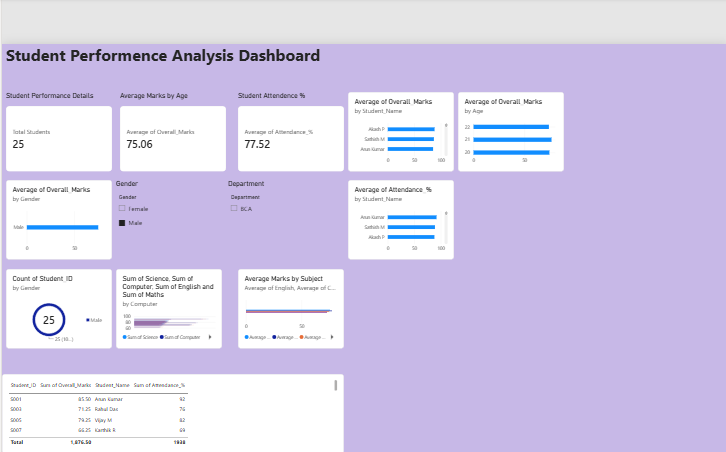

This screenshot's page, from the dashboard's own definition file:
{"tool":"powerbi","page":{"name":"Page 1","canvas":[1920,1080],"ordinal":0},"visuals":[{"type":"clusteredBarChart","fields":{"Category":["StudentData.Computer","StudentData.English","StudentData.Science","StudentData.Maths"],"Y":["Sum(StudentData.Science)","Sum(StudentData.Computer)","Sum(StudentData.English)","Sum(StudentData.Maths)"]},"box":[301.1,594.2,280,210],"z":0},{"type":"donutChart","fields":{"Category":["StudentData.Gender"],"Y":["CountNonNull(StudentData.Student_ID)"]},"box":[10.6,594.2,280,210],"z":1000},{"type":"cardVisual","title":"Student Performance Details","fields":{"Data":["StudentData.Total Students"]},"box":[10.6,126.8,280,210],"z":2000},{"type":"cardVisual","title":"Average Marks by Age","fields":{"Data":["Avg(StudentData.Overall_Marks)"]},"box":[311.6,126.8,280,210],"z":3000},{"type":"cardVisual","title":"Student Attendence %","fields":{"Data":["Avg(StudentData.Attendance_%)"]},"box":[623.3,126.8,280,210],"z":4000},{"type":"clusteredBarChart","title":"Average Marks by Subject","fields":{"Y":["Avg(StudentData.English)","Avg(StudentData.Computer)","Avg(StudentData.Science)","Avg(StudentData.Maths)"]},"box":[623.3,594.2,280,210],"z":5000},{"type":"slicer","title":" Gender","fields":{"Values":["StudentData.Gender"]},"box":[301.1,359.2,280,210],"z":6000},{"type":"slicer","title":"Department","fields":{"Values":["StudentData.Department"]},"box":[596.9,359.2,280,210],"z":7000},{"type":"clusteredBarChart","fields":{"Category":["StudentData.Gender"],"Y":["Avg(StudentData.Overall_Marks)"]},"box":[10.6,359.2,280,210],"z":8000},{"type":"clusteredBarChart","fields":{"Category":["StudentData.Student_Name"],"Y":["Avg(StudentData.Attendance_%)"]},"box":[913.8,359.2,280,210],"z":9000},{"type":"tableEx","fields":{"Values":["StudentData.Student_ID","Sum(StudentData.Overall_Marks)","StudentData.Student_Name","Sum(StudentData.Attendance_%)"]},"box":[0,871.5,903.2,211.3],"z":10000},{"type":"textbox","box":[10.6,0,892.7,126.8],"z":11000},{"type":"clusteredBarChart","fields":{"Category":["StudentData.Student_Name"],"Y":["Avg(StudentData.Overall_Marks)"]},"box":[914,127,280,210],"z":11001},{"type":"clusteredBarChart","fields":{"Category":["StudentData.Age"],"Y":["Avg(StudentData.Overall_Marks)"]},"box":[1204,127,280,210],"z":11002}]}

Visuals, with their boxes in screenshot pixels (x1, y1, x2, y2):
clusteredBarChart - StudentData.Computer x StudentData.English: left=116, top=227, right=220, bottom=306
donutChart - StudentData.Gender x CountNonNull(StudentData.Student_ID): left=8, top=227, right=112, bottom=306
"Student Performance Details" cardVisual: left=8, top=53, right=112, bottom=131
"Average Marks by Age" cardVisual: left=120, top=53, right=224, bottom=131
"Student Attendence %" cardVisual: left=236, top=53, right=341, bottom=131
"Average Marks by Subject" clusteredBarChart: left=236, top=227, right=341, bottom=306
" Gender" slicer: left=116, top=140, right=220, bottom=218
"Department" slicer: left=226, top=140, right=331, bottom=218
clusteredBarChart - StudentData.Gender x Avg(StudentData.Overall_Marks): left=8, top=140, right=112, bottom=218
clusteredBarChart - StudentData.Student_Name x Avg(StudentData.Attendance_%): left=345, top=140, right=449, bottom=218
tableEx - StudentData.Student_ID x Sum(StudentData.Overall_Marks): left=4, top=331, right=341, bottom=409
textbox: left=8, top=6, right=341, bottom=53
clusteredBarChart - StudentData.Student_Name x Avg(StudentData.Overall_Marks): left=345, top=53, right=449, bottom=131
clusteredBarChart - StudentData.Age x Avg(StudentData.Overall_Marks): left=453, top=53, right=557, bottom=131
